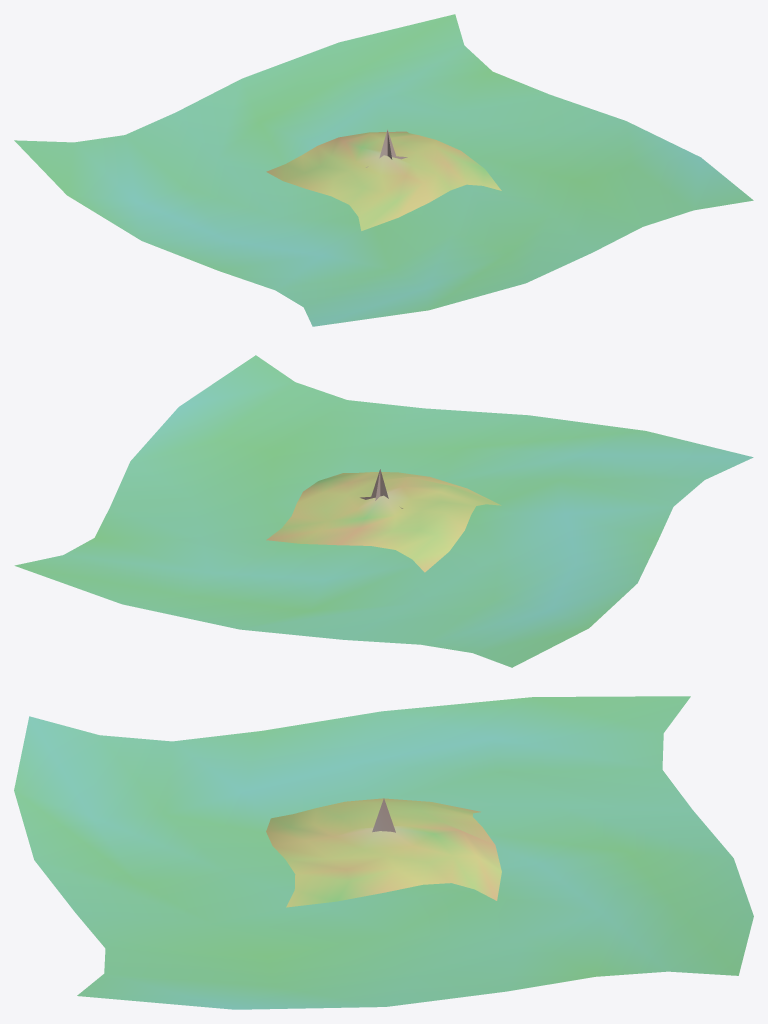
File: space-galaxies-irregular-galaxy_v13.glb
3 renders of one model, top to bottom at view 1: azimuth 30°, elevation 25°; view 2: azimuth 150°, elevation 25°; view 3: azimuth 270°, elevation 25°, orthographic. The views are drawn at different scales.
Visible parts, largest first — view 1: Irregular Galaxy_v13; view 2: Irregular Galaxy_v13; view 3: Irregular Galaxy_v13.
Boxes of the visible parts, x1=… form: Irregular Galaxy_v13: x1=14, y1=14, x2=753, y2=326; Irregular Galaxy_v13: x1=14, y1=355, x2=753, y2=667; Irregular Galaxy_v13: x1=14, y1=696, x2=753, y2=1009.
Bounding box in the file's own units: 0.5 × 0.0715 × 0.5.
